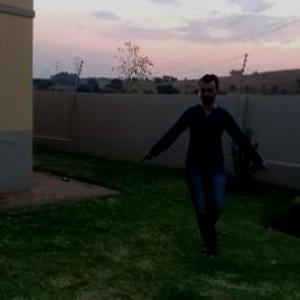land: (149, 72, 276, 271)
